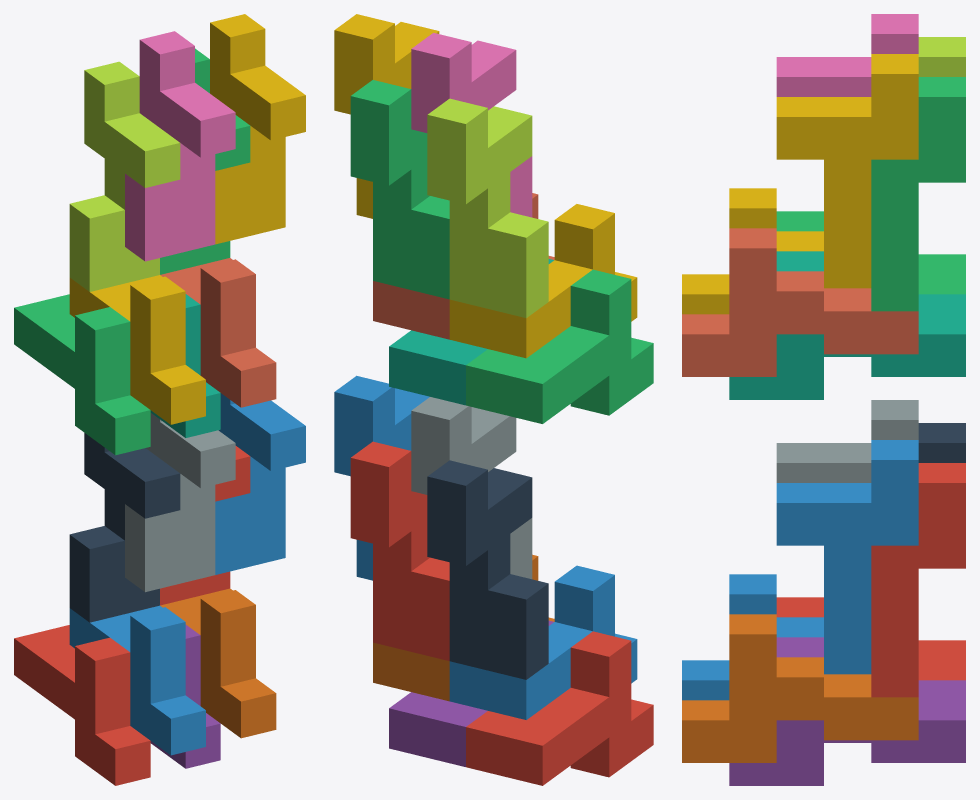
File: tiling.obj
The picture shows the model from 3 angles, left to right: view 1: azimuth 30°, elevation 25°; view 2: azimuth 150°, elevation 25°; view 3: azimuth 270°, elevation 25°; orthographic projection. The views are drawn at different scales.
Visible parts, largest first — view 1: copy_2_domain_4, copy_2_domain_3, copy_2_domain_8, copy_1_domain_1, copy_1_domain_3, copy_2_domain_2, copy_2_domain_1, copy_2_domain_6, copy_1_domain_4, copy_1_domain_2, copy_1_domain_8, copy_1_domain_6 (+4 smaller); view 2: copy_2_domain_3, copy_2_domain_1, copy_1_domain_1, copy_1_domain_3, copy_2_domain_7, copy_2_domain_5, copy_1_domain_2, copy_1_domain_4, copy_2_domain_4, copy_2_domain_2, copy_2_domain_8, copy_2_domain_6 (+4 smaller); view 3: copy_1_domain_6, copy_1_domain_8, copy_2_domain_6, copy_2_domain_8, copy_2_domain_5, copy_2_domain_7, copy_1_domain_5, copy_1_domain_7, copy_2_domain_2, copy_2_domain_4, copy_1_domain_2, copy_1_domain_4 (+4 smaller).
Part boxes in pixels (x1,y1,x2,y2): copy_2_domain_4: (125,31,235,261); copy_2_domain_3: (69,61,180,291); copy_2_domain_8: (210,14,305,244); copy_1_domain_1: (14,625,150,785); copy_1_domain_3: (14,294,150,455); copy_2_domain_2: (125,413,235,592); copy_2_domain_1: (69,433,180,622); copy_2_domain_6: (215,393,305,574); copy_1_domain_4: (69,275,205,424); copy_1_domain_2: (69,605,205,755); copy_1_domain_8: (160,258,276,407); copy_1_domain_6: (160,588,276,738); copy_2_domain_3: (427,98,548,318); copy_2_domain_1: (427,460,548,679); copy_1_domain_1: (466,631,653,785); copy_1_domain_3: (466,269,653,423); copy_2_domain_7: (350,80,449,299); copy_2_domain_5: (350,441,449,660); copy_1_domain_2: (449,565,637,719); copy_1_domain_4: (449,204,637,358); copy_2_domain_4: (411,33,532,217); copy_2_domain_2: (411,397,532,579); copy_2_domain_8: (334,14,439,218); copy_2_domain_6: (334,375,429,580); copy_1_domain_6: (682,614,918,762); copy_1_domain_8: (682,228,918,376); copy_2_domain_6: (776,440,918,674); copy_2_domain_8: (776,54,918,288); copy_2_domain_5: (871,463,965,697); copy_2_domain_7: (871,77,965,311); copy_1_domain_5: (729,637,965,785); copy_1_domain_7: (729,251,965,399); copy_2_domain_2: (776,400,918,482); copy_2_domain_4: (776,14,918,96); copy_1_domain_2: (682,574,823,700); copy_1_domain_4: (682,188,823,314).
Bounding box in the file's own units: 6 × 18 × 6.
